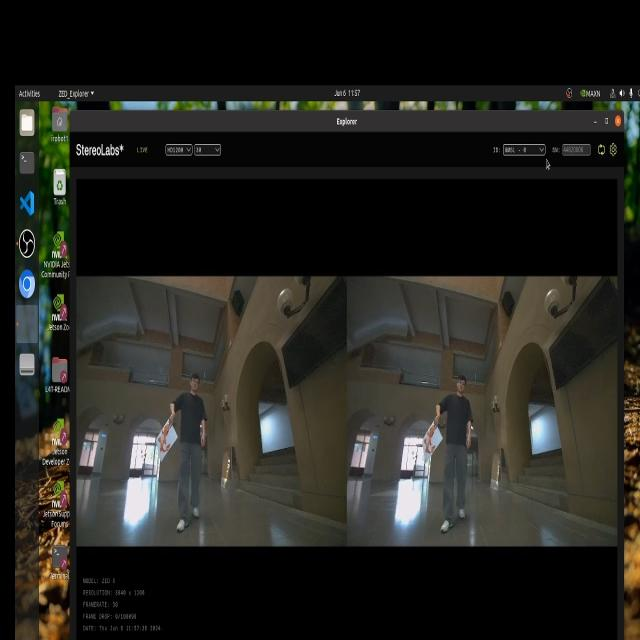red: (156, 416, 180, 459), (419, 423, 436, 462)
